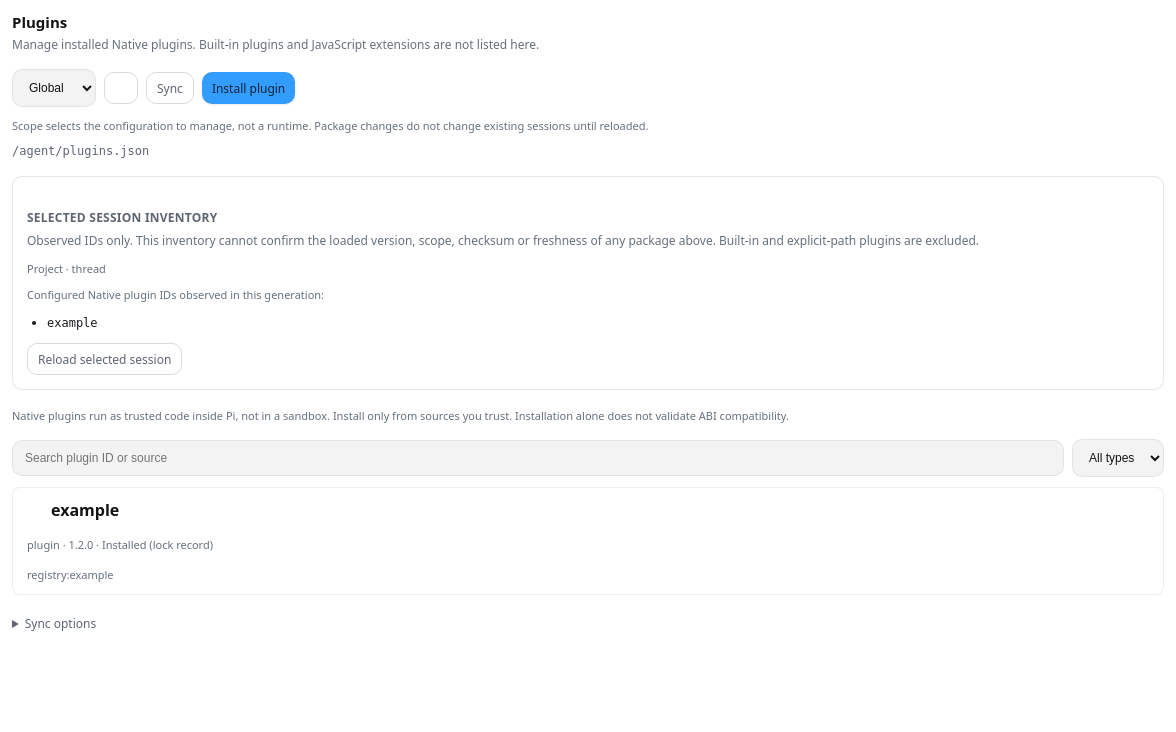
SettingsPluginsSection › preserves changed state after reload failure and reports successful reload separately from failed refresh
Expected: the button "example" is shown, x1=27 y1=500 x2=119 y2=522
Step 1. Click the button "Sync" → click(170, 88), box x1=146 y1=72 x2=194 y2=104
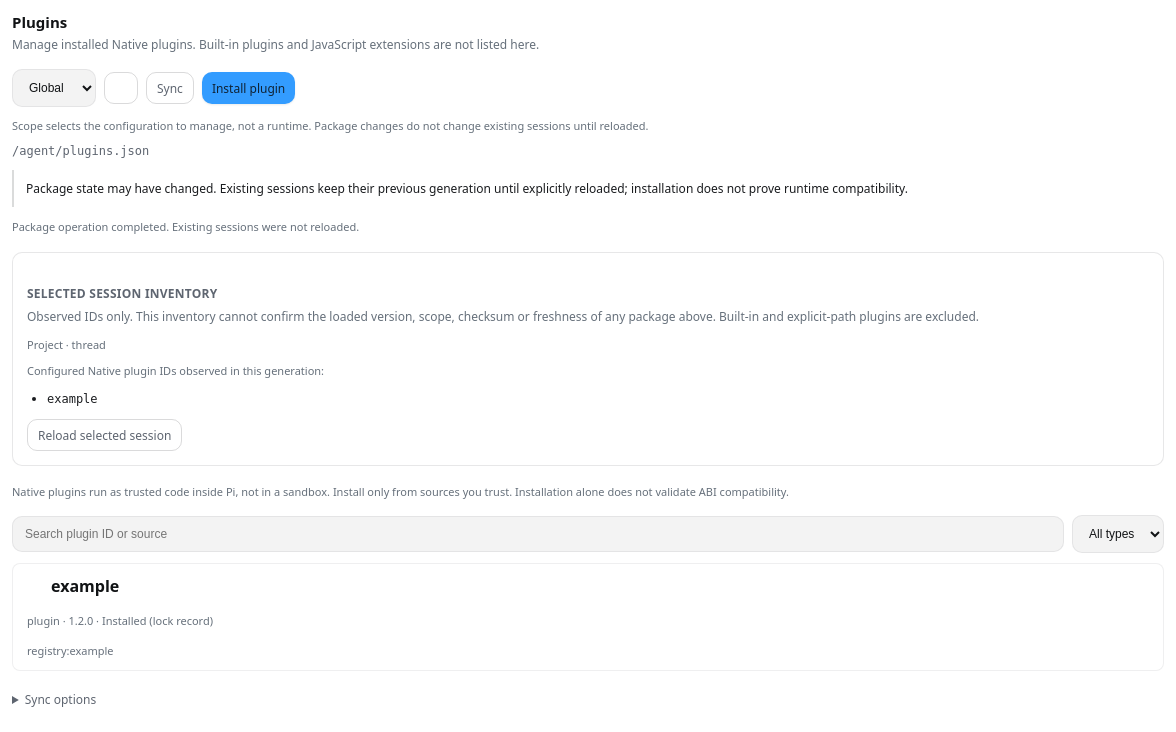
Result: the text "Package operation completed. Existing sessions were not reloaded." is shown at x1=12 y1=219 x2=359 y2=234
Step 2. Click the button "Reload selected session" → click(105, 435), box x1=27 y1=419 x2=182 y2=451
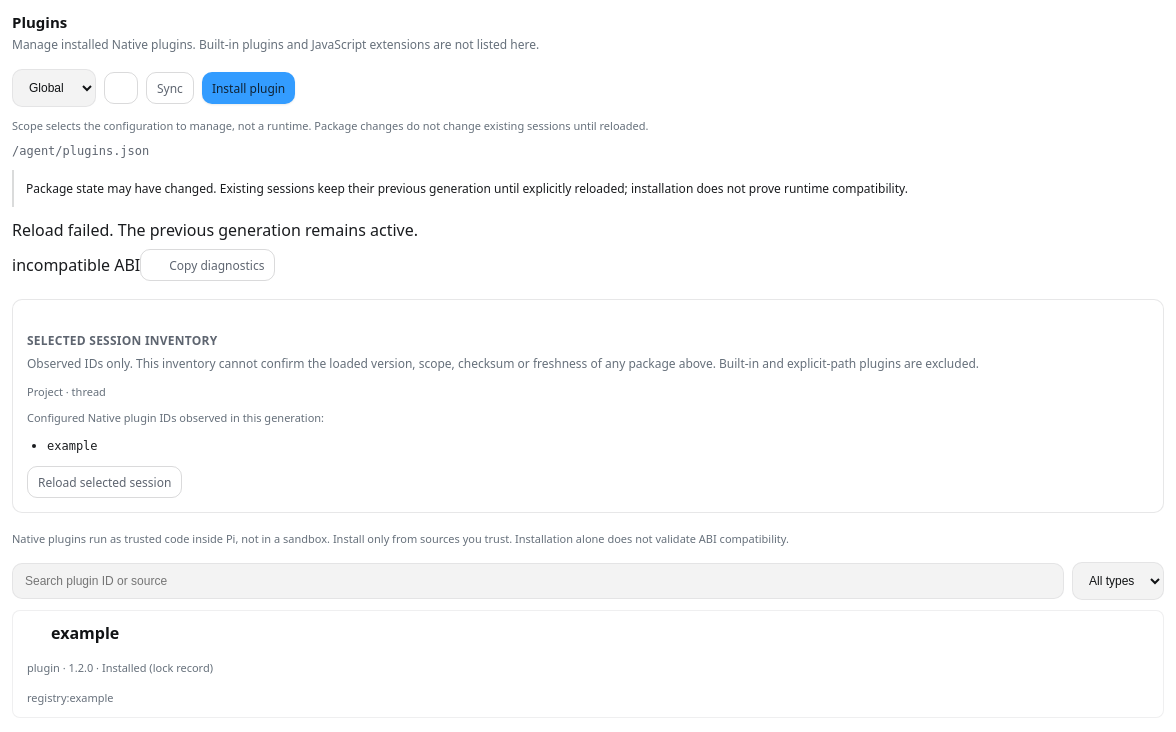
Result: the text "Package state may have changed" is shown at x1=26 y1=180 x2=908 y2=197
Result: the text "incompatible ABI" is shown at x1=12 y1=219 x2=418 y2=276
Step 3. Click the button "Reload selected session" → click(105, 482), box x1=27 y1=466 x2=182 y2=498
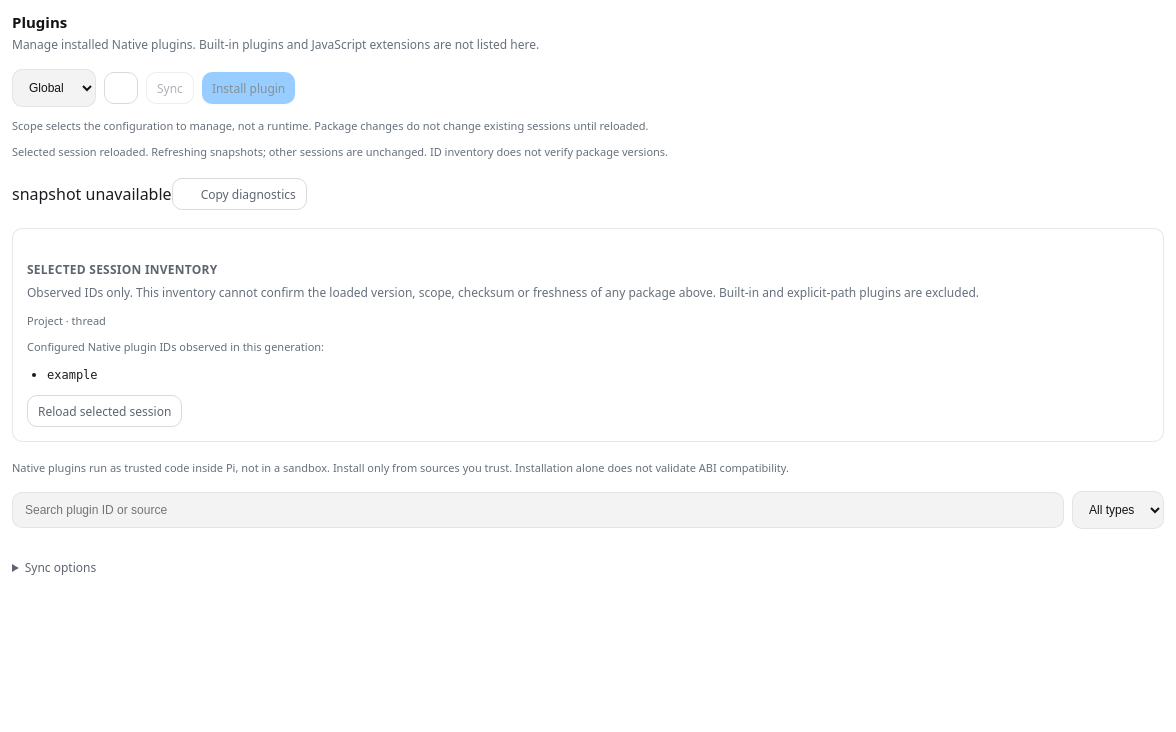
Result: the text "snapshot unavailable Copy diagnostics" is shown at x1=12 y1=178 x2=307 y2=210
Result: the text "Selected session reloaded" is shown at x1=12 y1=144 x2=668 y2=159
Result: the text "Package state may have changed" is gone
